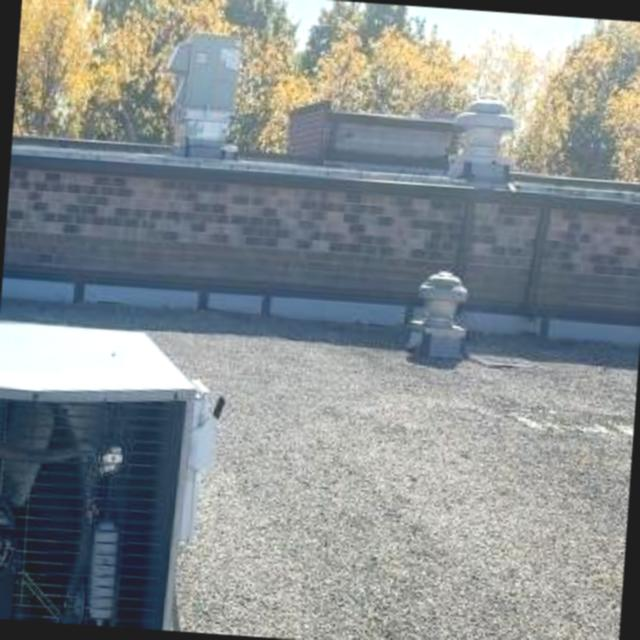GRAVITY-VENT: (398, 260, 479, 360), (445, 92, 521, 180)
RTU: (153, 18, 253, 136)
SPLIT-SYSTEM: (0, 298, 230, 633)
